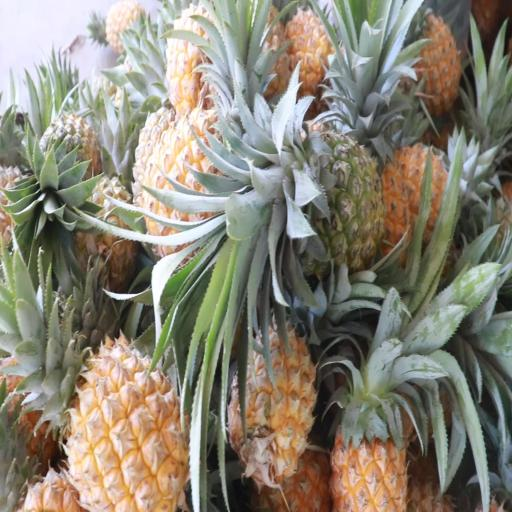Pineapple - v8 v1: (48, 327, 202, 512), (133, 98, 274, 257), (332, 328, 413, 512), (232, 316, 317, 490)
